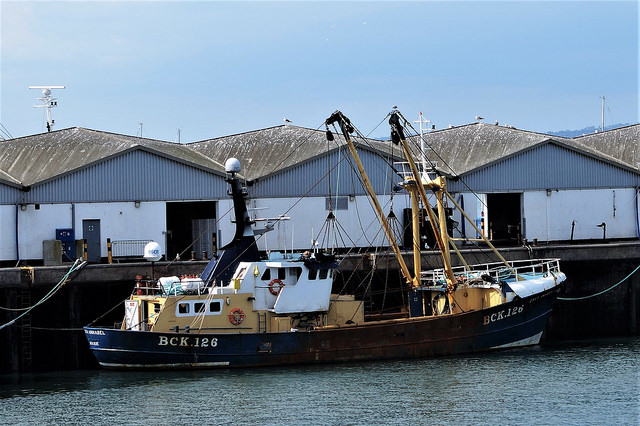fishing_boat: (72, 116, 565, 369)
